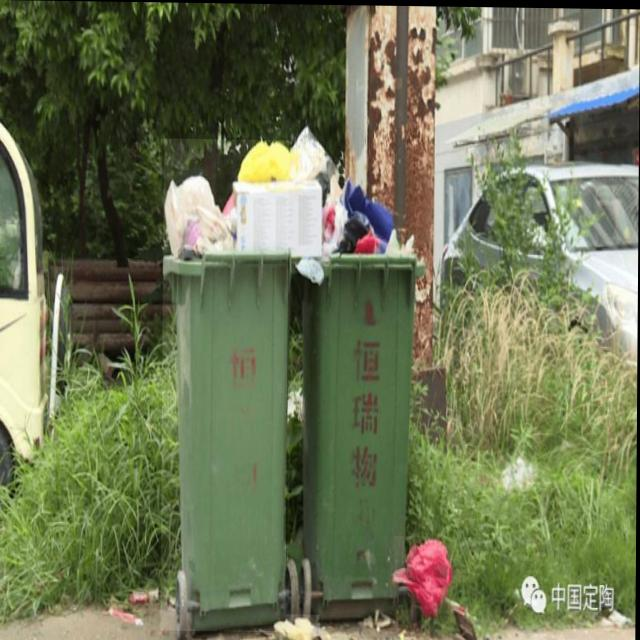garbage: (394, 535, 481, 640)
overflow: (161, 138, 323, 632), (286, 125, 426, 615)
